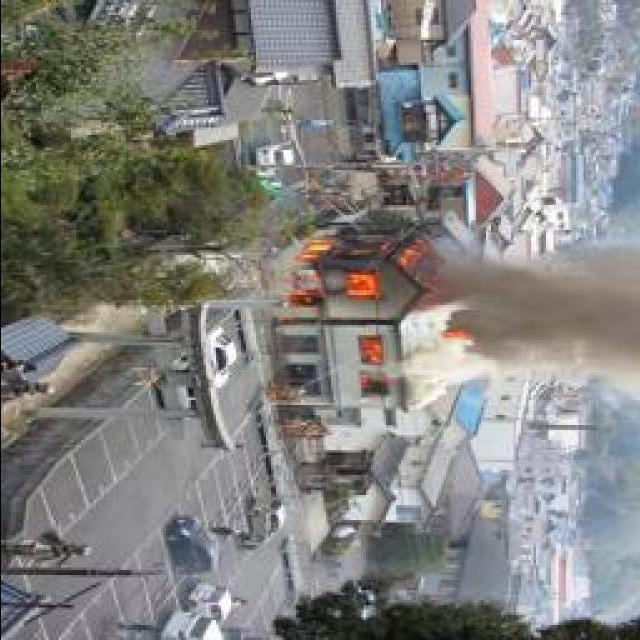Fire: (285, 233, 415, 307), (357, 333, 387, 374)
